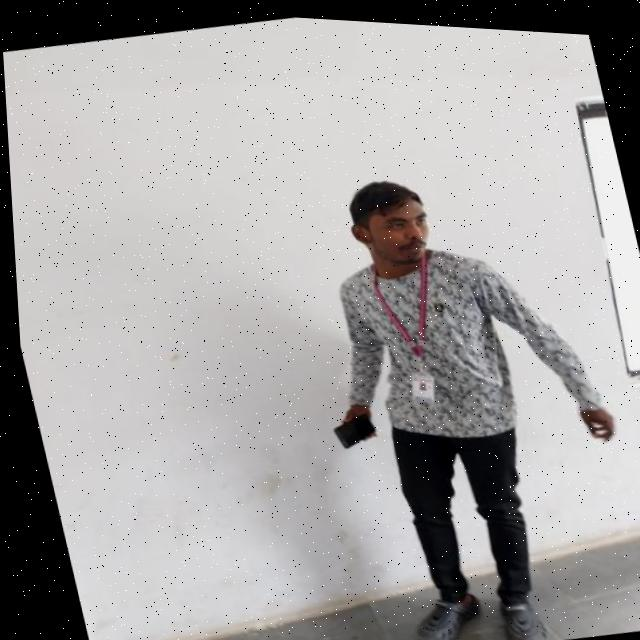id_card: (357, 245, 463, 402)
